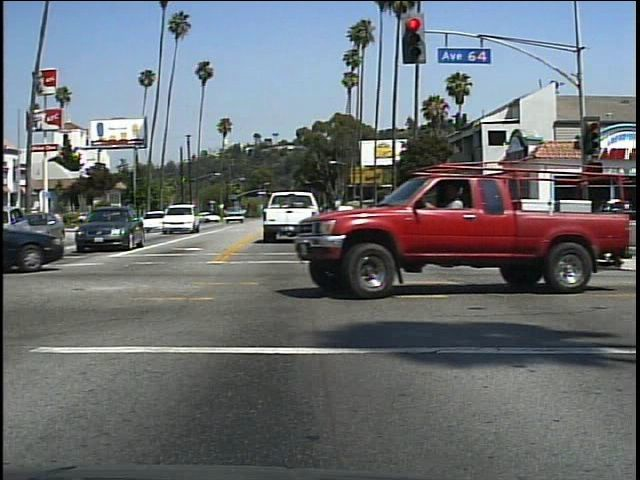person: (436, 178, 476, 288), (476, 200, 501, 236)
